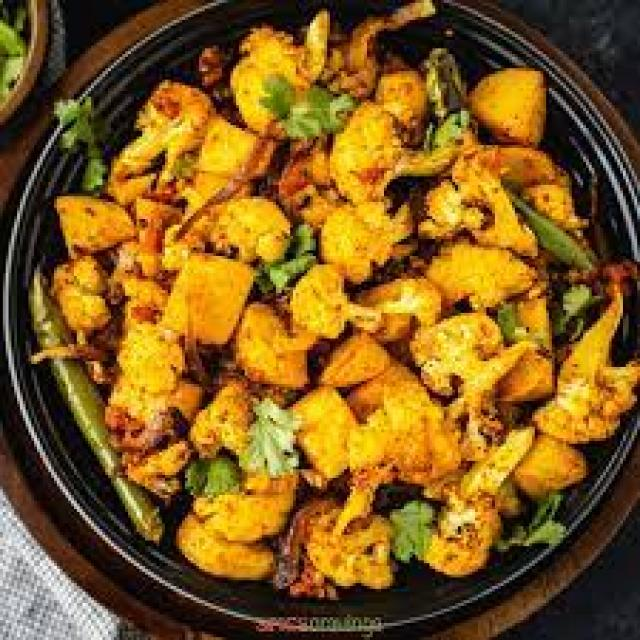Aloo Gobi: (118, 188, 426, 489)
